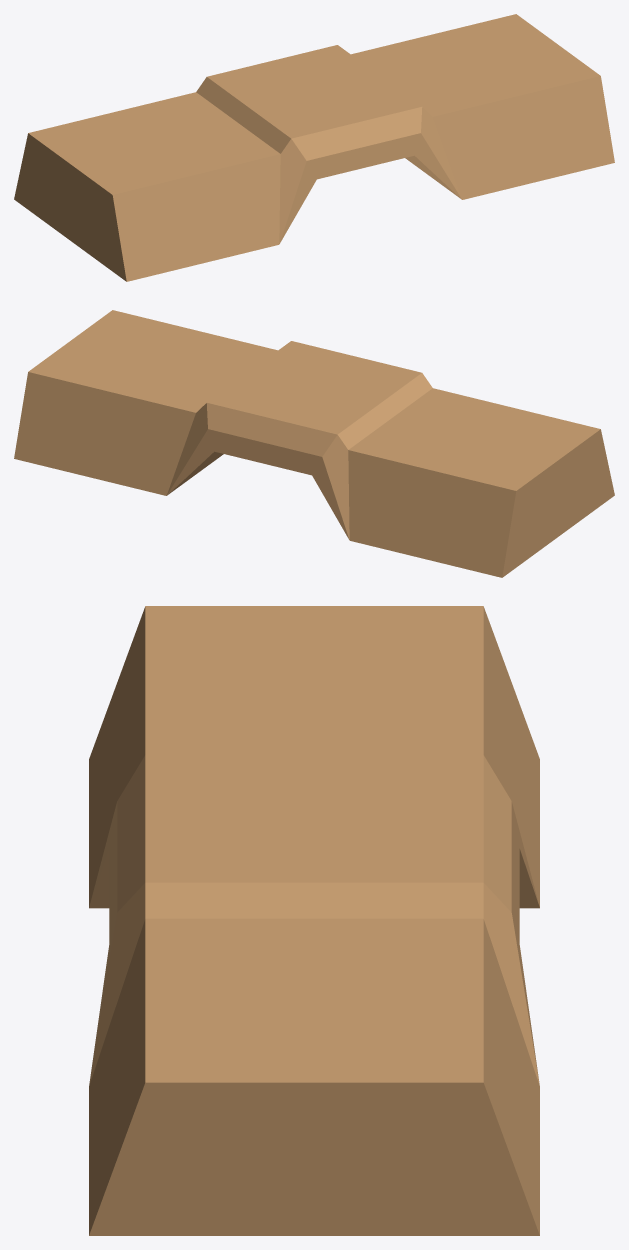
The model's file is Puzzle_Wall_Conduit_Passthrough_Base.fbx.
3 renders of one model, top to bottom at view 1: azimuth 30°, elevation 25°; view 2: azimuth 150°, elevation 25°; view 3: azimuth 270°, elevation 25°, orthographic. The views are drawn at different scales.
Parts seen in each view (by area): view 1: object1; view 2: object1; view 3: object1.
Boxes of the visible parts, x1,y1,x2,y2 form: object1: (14, 14, 614, 281); object1: (14, 310, 614, 577); object1: (89, 606, 539, 1235).
Bounding box in the file's own units: 1 × 0.175 × 0.4.
